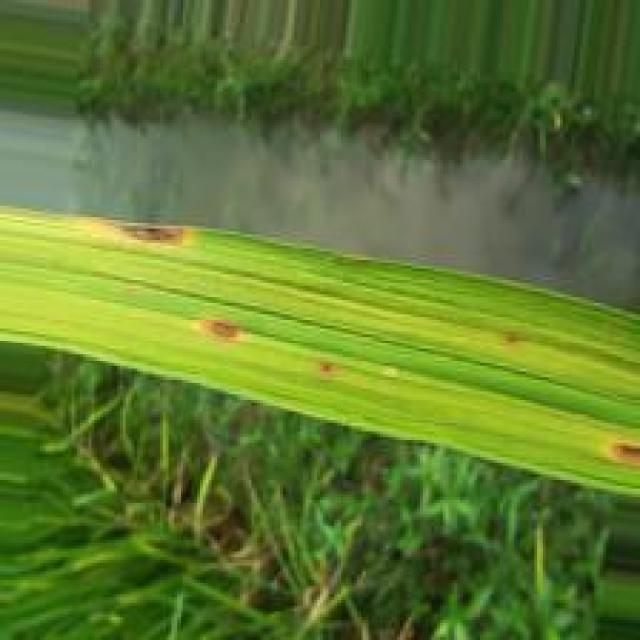Narrow_Brown_Leaf_Spot: (106, 220, 204, 248), (601, 437, 640, 469), (196, 320, 249, 339)
